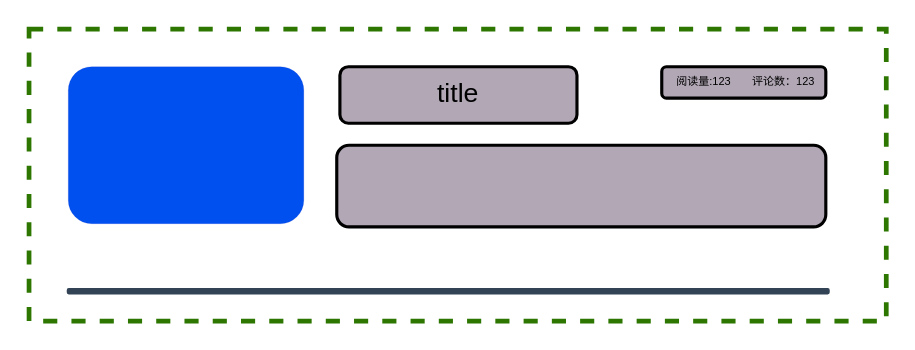
This 915x350 diagram has some shape labels left out. Each missing label, with the box of its shape:
description: (334, 143, 827, 228)
picture: (68, 66, 303, 223)
